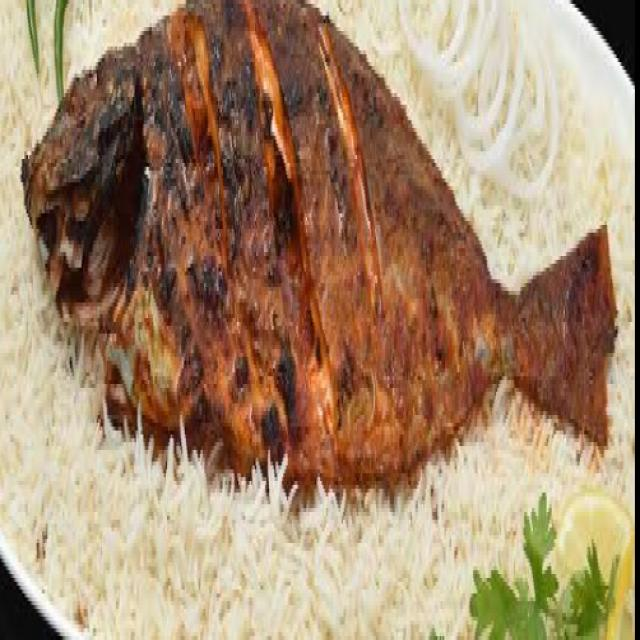Fried Fish: (1, 8, 622, 525)
